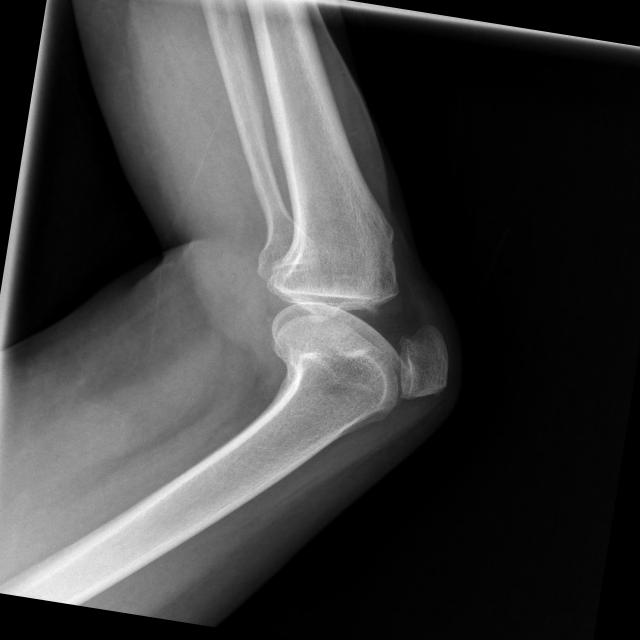Knee: (246, 214, 477, 428)
